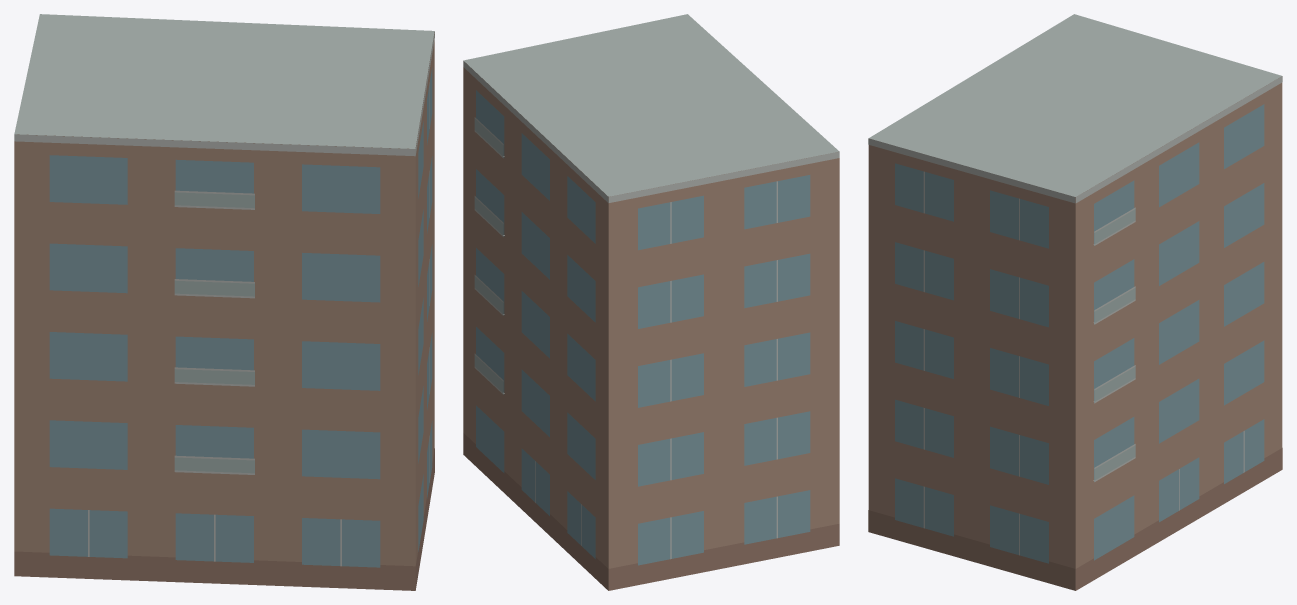
File: survey-upis-32872396.glb
3 views of the same model, side by side, from view 1: azimuth 30°, elevation 25°; view 2: azimuth 150°, elevation 25°; view 3: azimuth 270°, elevation 25° (orthographic). The views are drawn at different scales.
Visible parts, largest first — view 1: survey-upis-32872396.tmp; view 2: survey-upis-32872396.tmp; view 3: survey-upis-32872396.tmp.
Boxes of the visible parts, x1,y1,x2,y2 form: survey-upis-32872396.tmp: (14, 14, 434, 590); survey-upis-32872396.tmp: (463, 14, 839, 590); survey-upis-32872396.tmp: (868, 14, 1282, 590).
Bounding box in the file's own units: 14.97 × 15 × 14.3.
